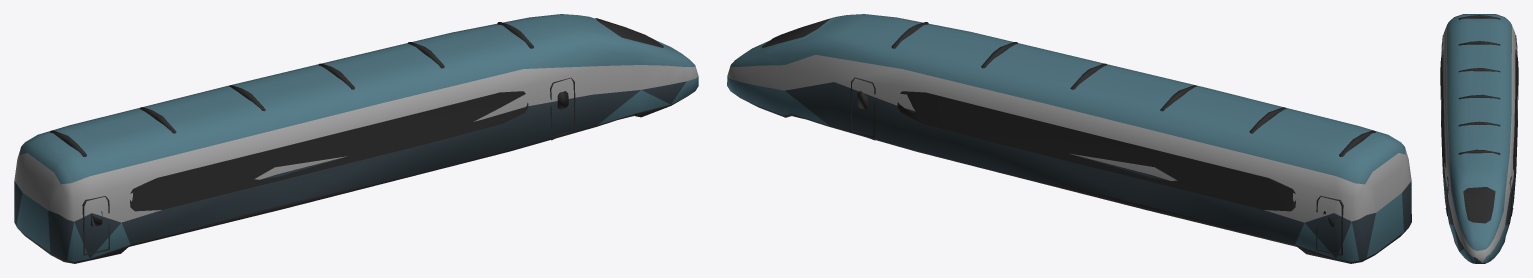
Rendered from train-front.glb.
3 renders of one model, left to right at view 1: azimuth 30°, elevation 25°; view 2: azimuth 150°, elevation 25°; view 3: azimuth 270°, elevation 25°, orthographic. The views are drawn at different scales.
Visible parts, largest first — view 1: HighspeedTrain_Front; view 2: HighspeedTrain_Front; view 3: HighspeedTrain_Front.
Boxes of the visible parts, bbox=[...] form: HighspeedTrain_Front: bbox=[14, 14, 698, 263]; HighspeedTrain_Front: bbox=[727, 14, 1411, 263]; HighspeedTrain_Front: bbox=[1440, 14, 1518, 263].
Size of the model in its own units: 12.16 by 1.9 by 2.04.
